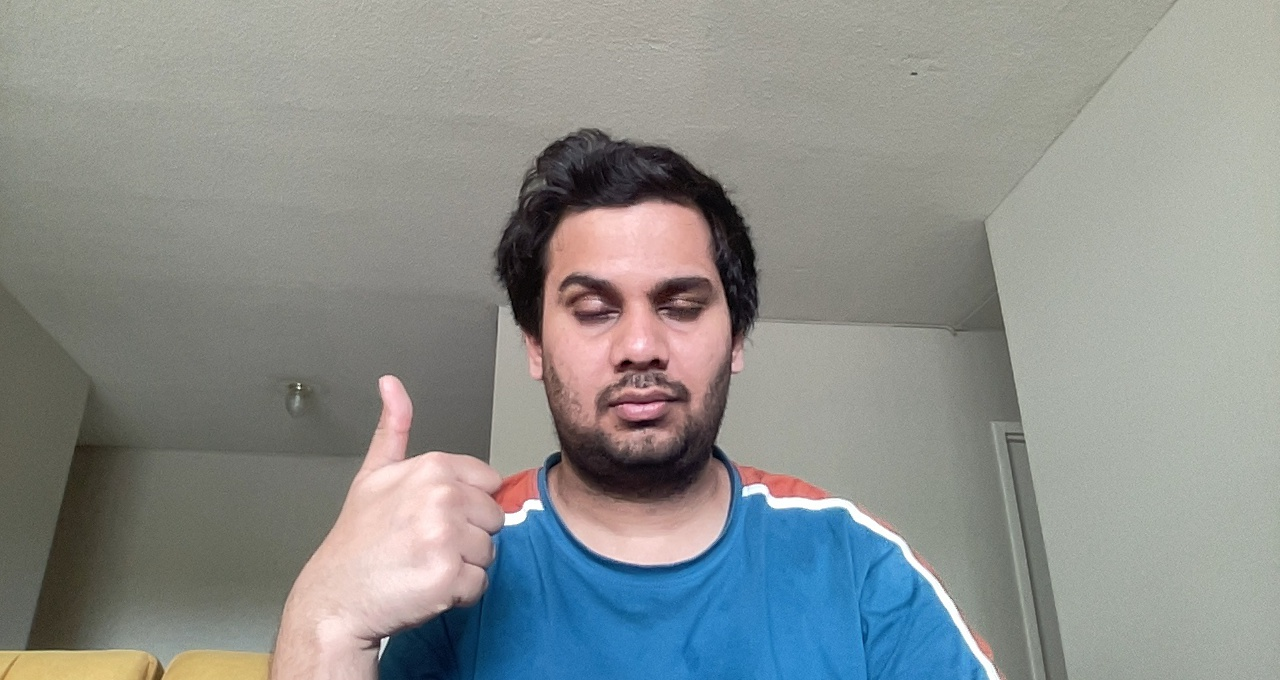thumbsup: (322, 370, 512, 630)
